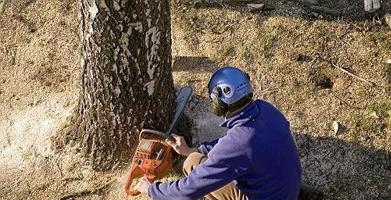person: (134, 67, 303, 200)
